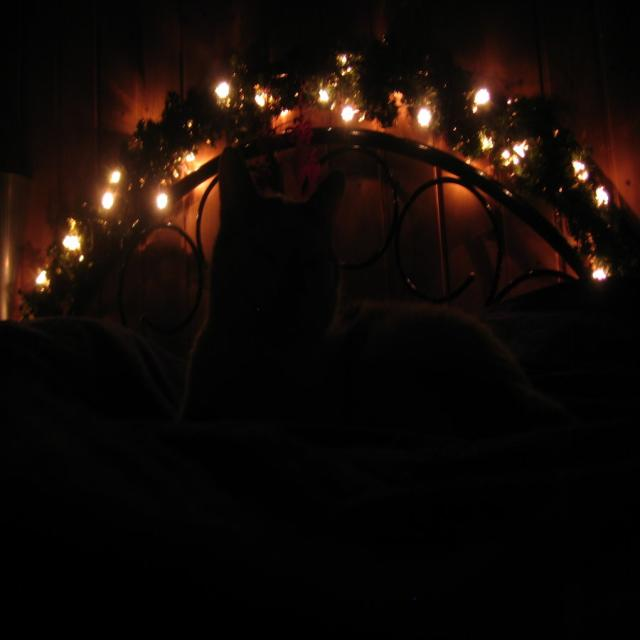Cat: (170, 114, 595, 489)
